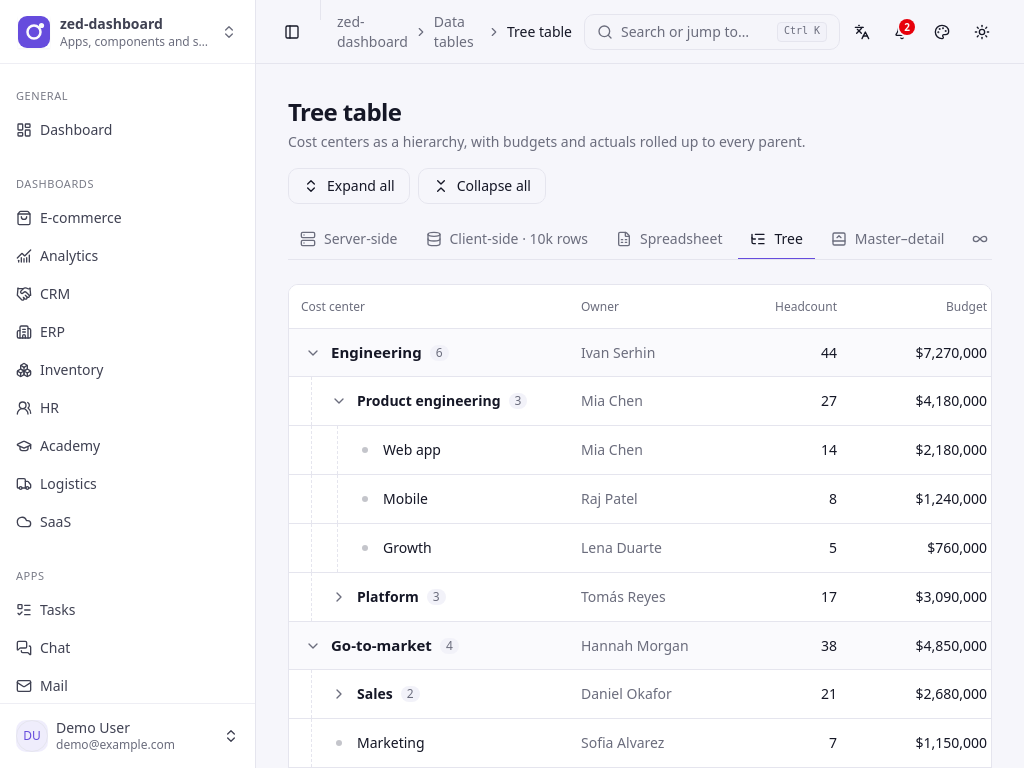
data-tables: extra examples › expands every level of the tree table
Expected: the text "Security" is not shown
Click the button "Expand all" at (349, 186), box [288,168,410,204]
(page scrolled)
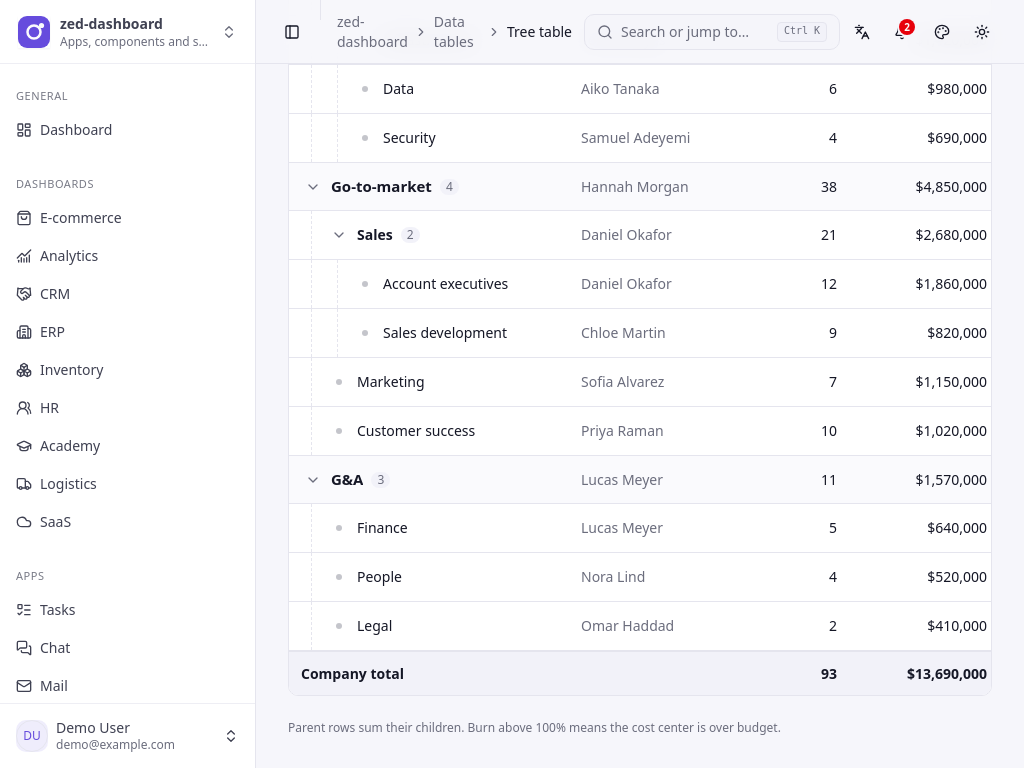
Expected: the text "Company total" is shown, [289,651,569,695]
Expected: the text "Security" is shown, [383,128,436,148]
